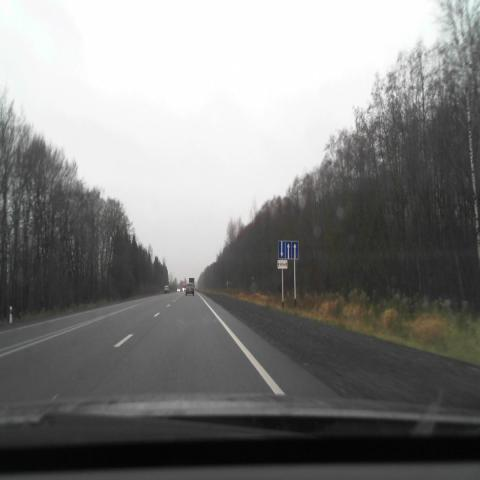5_15_7: (278, 240, 298, 259)
